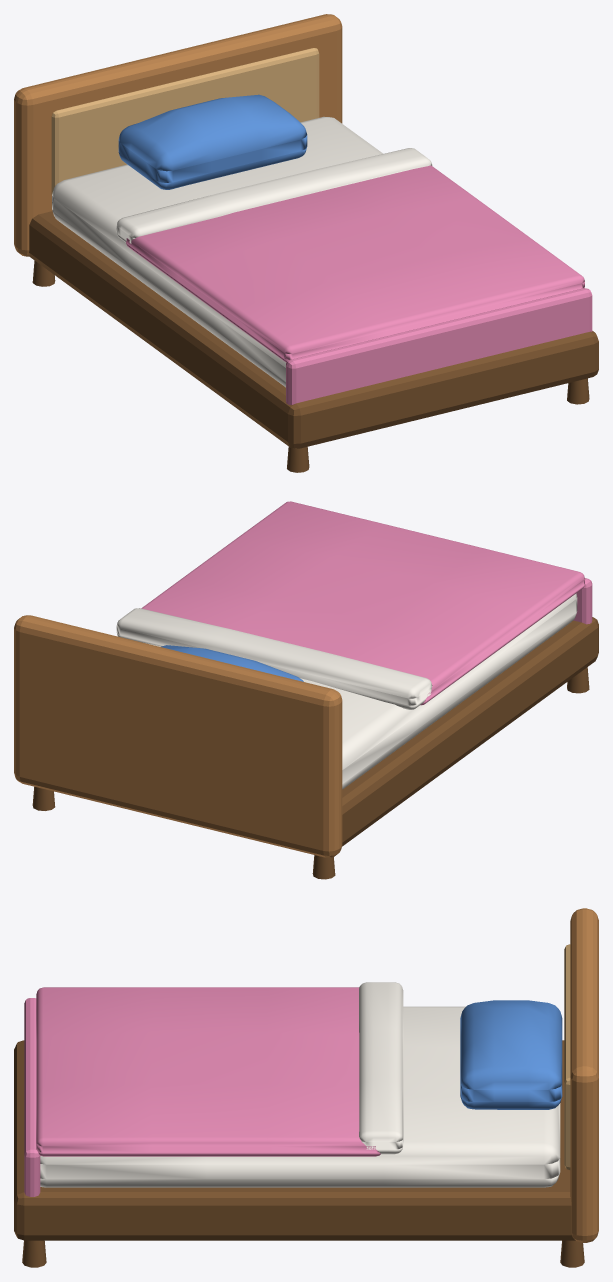
File: cama.glb
3 renders of one model, top to bottom at view 1: azimuth 30°, elevation 25°; view 2: azimuth 150°, elevation 25°; view 3: azimuth 270°, elevation 25°, orthographic. The views are drawn at different scales.
Visible parts, largest first — view 1: cama; view 2: cama; view 3: cama.
Part boxes in pixels (left/top/right/bottom): cama: left=14, top=14, right=598, bottom=472; cama: left=14, top=501, right=598, bottom=879; cama: left=14, top=908, right=598, bottom=1267.
Size of the model in its own units: 1.94 by 1.1 by 2.87.
